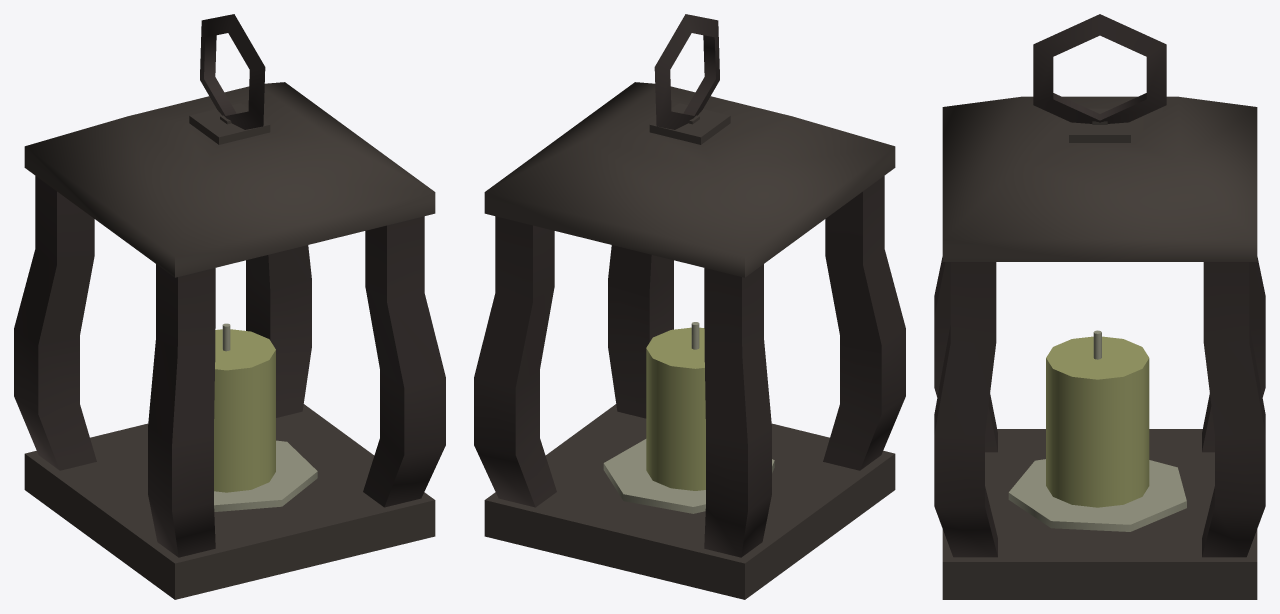
File: Lamp.FBX
3 views of the same model, side by side, from view 1: azimuth 30°, elevation 25°; view 2: azimuth 150°, elevation 25°; view 3: azimuth 270°, elevation 25° (orthographic). The views are drawn at different scales.
Parts seen in each view (by area): view 1: Lamp, Cylindeandle, candleBase; view 2: Lamp, Cylindeandle, candleBase; view 3: Lamp, Cylindeandle, candleBase.
Part boxes in pixels (x1=…): Lamp: x1=14, y1=14, x2=445, y2=599; Cylindeandle: x1=214, y1=329, x2=275, y2=492; candleBase: x1=214, y1=440, x2=317, y2=511; Lamp: x1=474, y1=14, x2=905, y2=599; Cylindeandle: x1=646, y1=327, x2=705, y2=490; candleBase: x1=603, y1=439, x2=774, y2=513; Lamp: x1=934, y1=14, x2=1265, y2=599; Cylindeandle: x1=1046, y1=336, x2=1149, y2=507; candleBase: x1=1008, y1=459, x2=1186, y2=531.
Size of the model in its own units: 21043 by 36587 by 21043.
